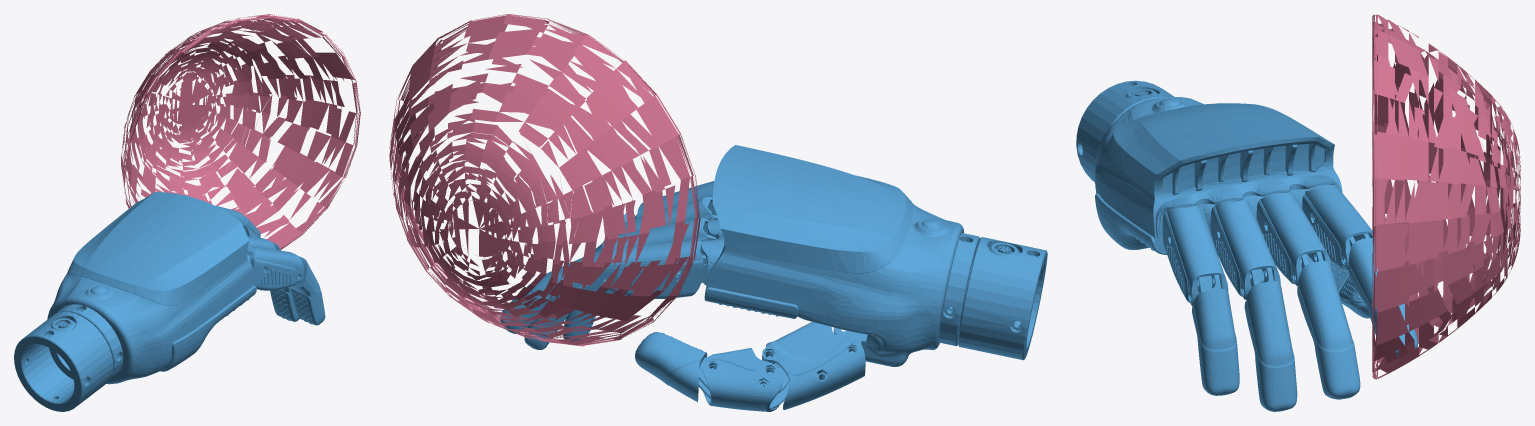
3 views of the same model, side by side, from view 1: azimuth 30°, elevation 25°; view 2: azimuth 150°, elevation 25°; view 3: azimuth 270°, elevation 25° (orthographic). The views are drawn at different scales.
Parts seen in each view (by area): view 1: 1; view 2: 1; view 3: 1.
Boxes of the visible parts, <box> form: 1: <box>14,14,360,411</box>; 1: <box>389,14,1047,411</box>; 1: <box>1076,14,1520,411</box>.
Bounding box in the file's own units: 0.279 × 0.1771 × 0.1917.
